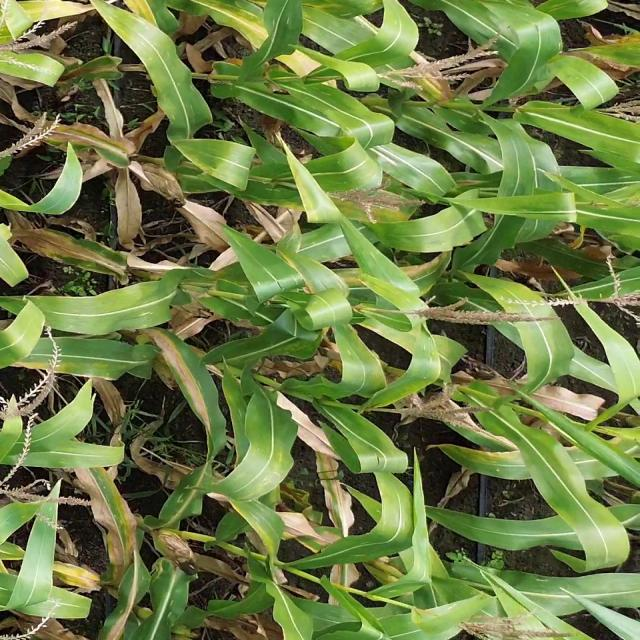gray-leaf-spot: (263, 262, 411, 363), (227, 432, 281, 538)
northern-leaf-blight: (49, 437, 145, 596), (428, 436, 640, 490), (233, 181, 418, 237), (141, 328, 232, 441)
southern-leaf-blight: (114, 15, 210, 138), (303, 88, 386, 192)
